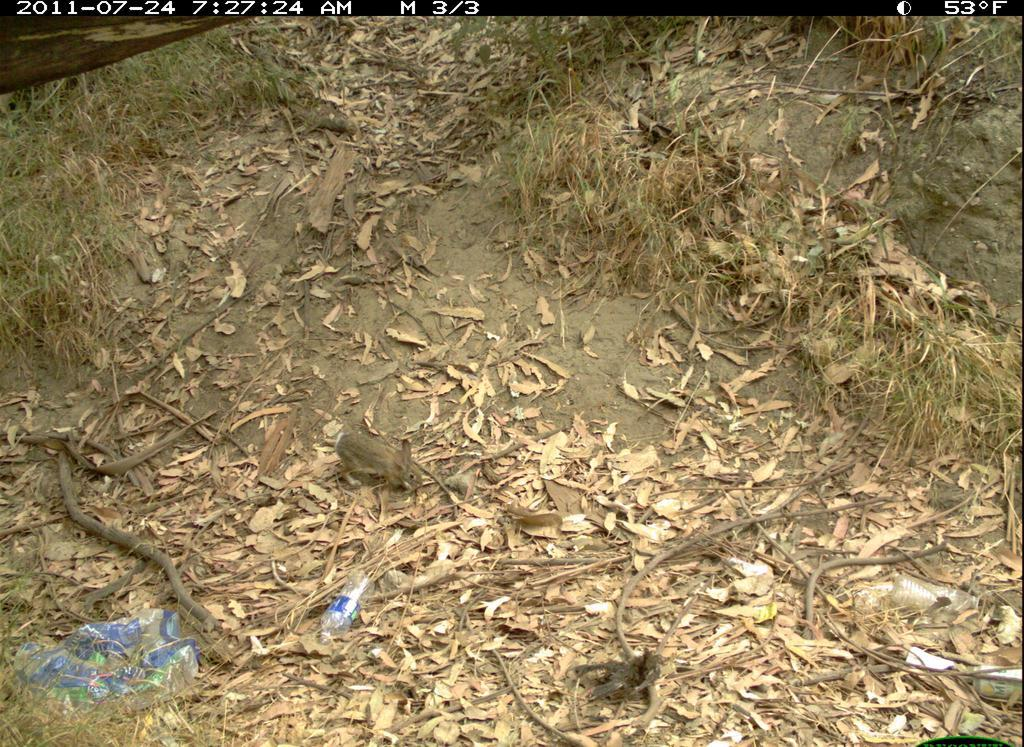rabbit: (332, 427, 434, 493)
